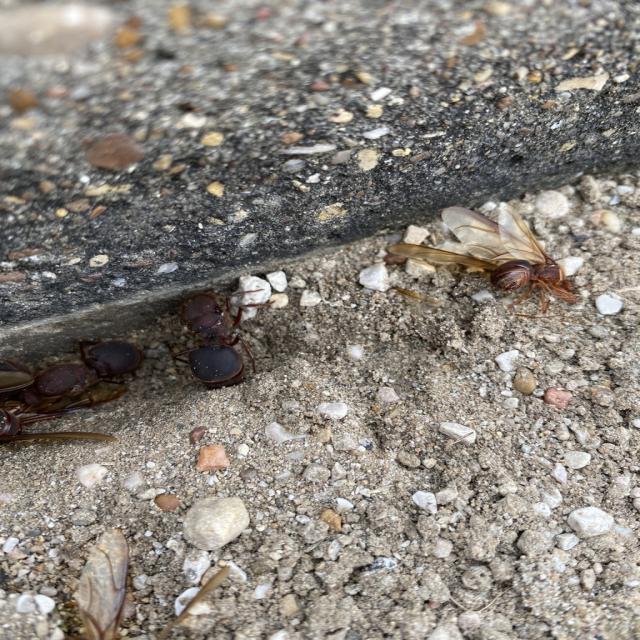Alive-Female-Dealate: (0, 337, 143, 412), (170, 288, 278, 387)
Dead-Male-Alate: (386, 201, 595, 323)
